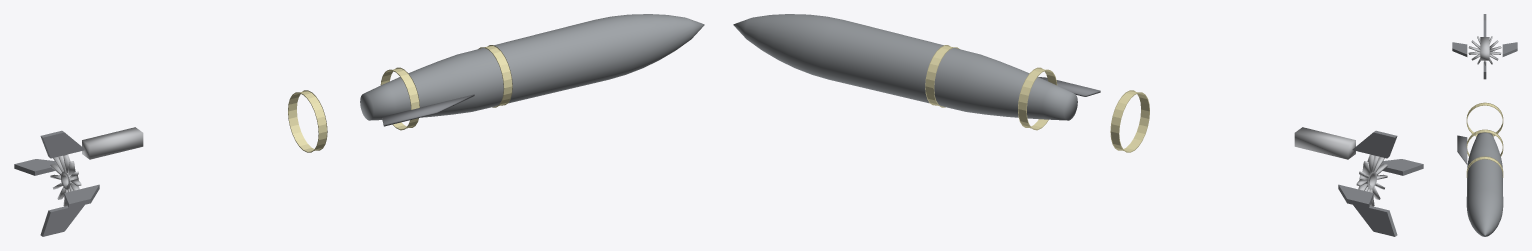
The model's file is CN_TORP_Yu5_LOD1.fbx.
3 renders of one model, left to right at view 1: azimuth 30°, elevation 25°; view 2: azimuth 150°, elevation 25°; view 3: azimuth 270°, elevation 25°, orthographic. The views are drawn at different scales.
Parts seen in each view (by area): view 1: WPN_CN_TORP_Yu5_LOD1_Body, WPN_CN_TORP_Yu5_LOD1_Fins, WPN_CN_TORP_Yu5_LOD1_Marking, WPN_CN_TORP_Yu5_LOD1_Detail, WPN_CN_TORP_Yu5_LOD1_Propulsor; view 2: WPN_CN_TORP_Yu5_LOD1_Body, WPN_CN_TORP_Yu5_LOD1_Marking, WPN_CN_TORP_Yu5_LOD1_Fins, WPN_CN_TORP_Yu5_LOD1_Detail, WPN_CN_TORP_Yu5_LOD1_Propulsor; view 3: WPN_CN_TORP_Yu5_LOD1_Body, WPN_CN_TORP_Yu5_LOD1_Marking, WPN_CN_TORP_Yu5_LOD1_Fins, WPN_CN_TORP_Yu5_LOD1_Detail, WPN_CN_TORP_Yu5_LOD1_Propulsor.
Boxes of the visible parts, <box> form: WPN_CN_TORP_Yu5_LOD1_Body: <box>360,14,704,120</box>; WPN_CN_TORP_Yu5_LOD1_Fins: <box>14,130,99,236</box>; WPN_CN_TORP_Yu5_LOD1_Marking: <box>288,45,512,152</box>; WPN_CN_TORP_Yu5_LOD1_Detail: <box>82,94,474,159</box>; WPN_CN_TORP_Yu5_LOD1_Propulsor: <box>50,154,81,206</box>; WPN_CN_TORP_Yu5_LOD1_Body: <box>733,14,1077,120</box>; WPN_CN_TORP_Yu5_LOD1_Marking: <box>925,45,1149,152</box>; WPN_CN_TORP_Yu5_LOD1_Fins: <box>1338,130,1423,236</box>; WPN_CN_TORP_Yu5_LOD1_Detail: <box>1039,77,1355,159</box>; WPN_CN_TORP_Yu5_LOD1_Propulsor: <box>1356,154,1387,206</box>; WPN_CN_TORP_Yu5_LOD1_Body: <box>1466,132,1503,236</box>; WPN_CN_TORP_Yu5_LOD1_Marking: <box>1466,102,1503,177</box>; WPN_CN_TORP_Yu5_LOD1_Fins: <box>1452,14,1517,79</box>; WPN_CN_TORP_Yu5_LOD1_Detail: <box>1457,37,1489,164</box>; WPN_CN_TORP_Yu5_LOD1_Propulsor: <box>1468,36,1501,65</box>.
Bounding box in the file's own units: 6.62 × 0.9466 × 0.9466.
